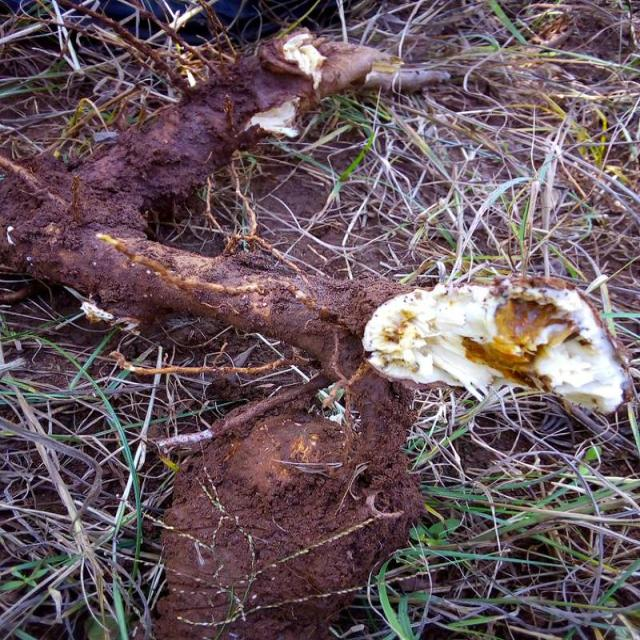cassava leaf: (361, 273, 630, 415)
